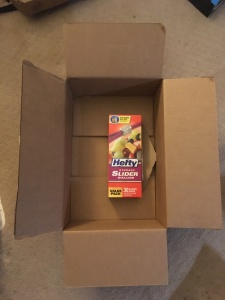innerbox: (66, 78, 166, 229)
outerbox: (22, 24, 223, 289)
product: (108, 114, 142, 199)
